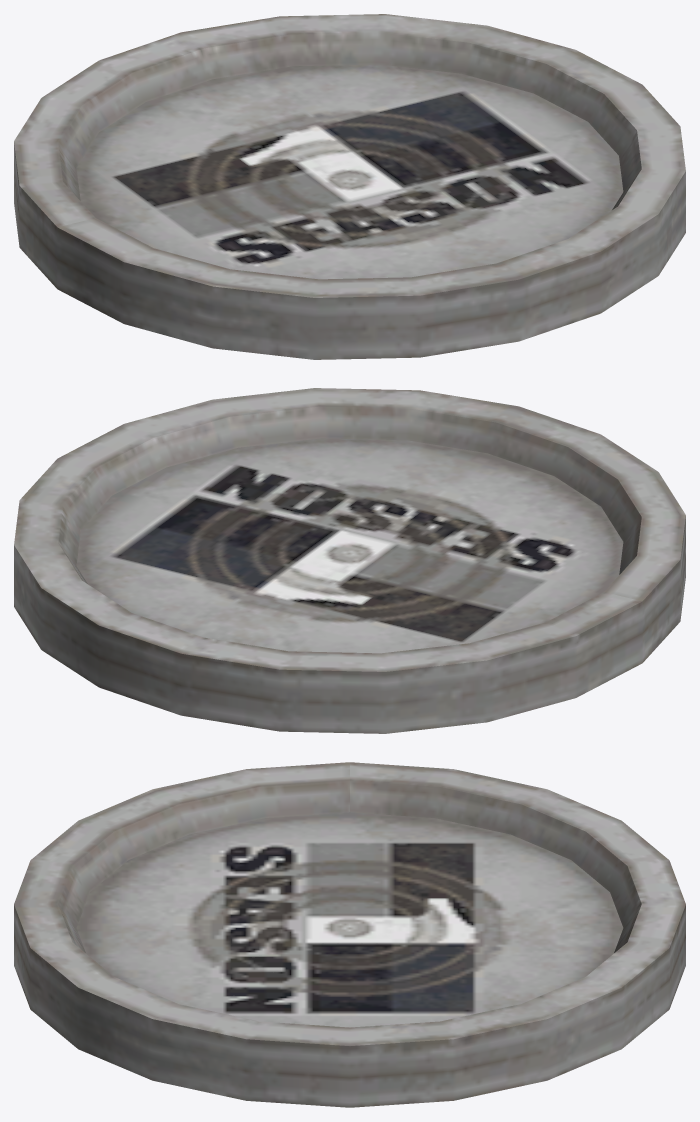
Rendered from paintBucketLid01_clean.FBX.
3 renders of one model, top to bottom at view 1: azimuth 30°, elevation 25°; view 2: azimuth 150°, elevation 25°; view 3: azimuth 270°, elevation 25°, orthographic.
Parts seen in each view (by area): view 1: SM_PaintBucketLid01; view 2: SM_PaintBucketLid01; view 3: SM_PaintBucketLid01.
Boxes of the visible parts, x1,y1,x2,y2 form: SM_PaintBucketLid01: (14, 14, 685, 359); SM_PaintBucketLid01: (14, 388, 685, 733); SM_PaintBucketLid01: (14, 762, 685, 1107).
Bounding box in the file's own units: 33.57 × 3.4 × 33.57.
Materials: 1 (1 with a texture image).
